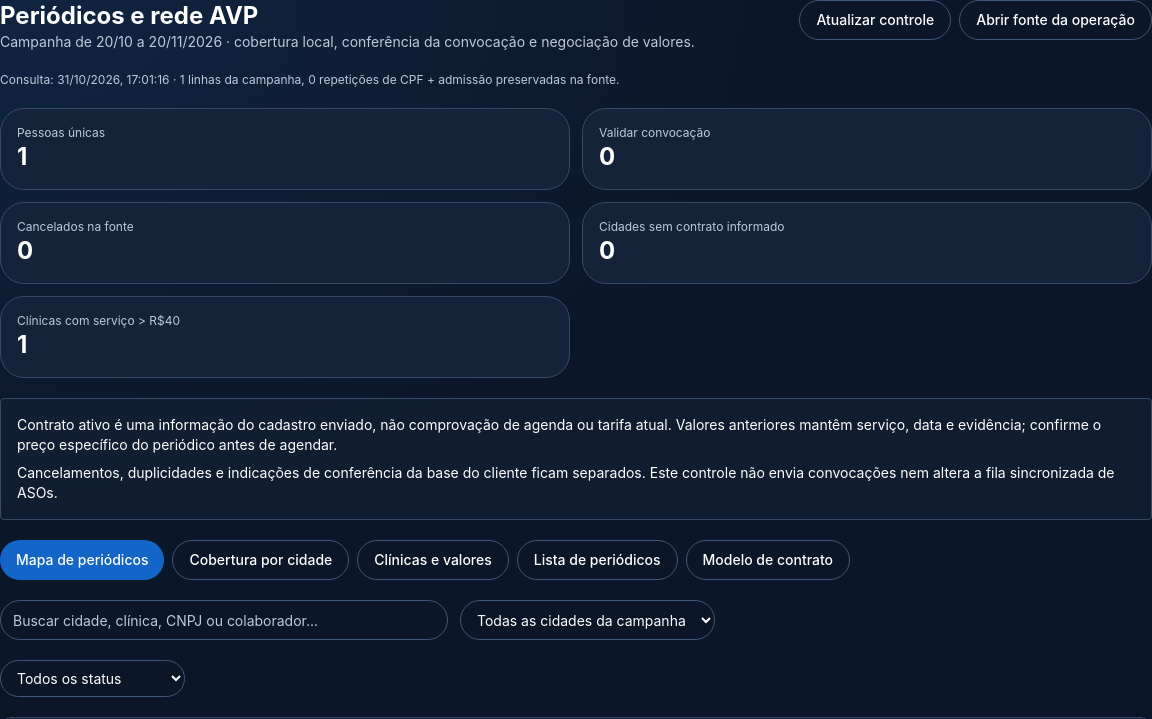
Test: painel de periódicos AVP › limpa os dados quando a autorização é revogada
Click the button "Lista de periódicos".
click(597, 560)  # box [517,540,678,580]
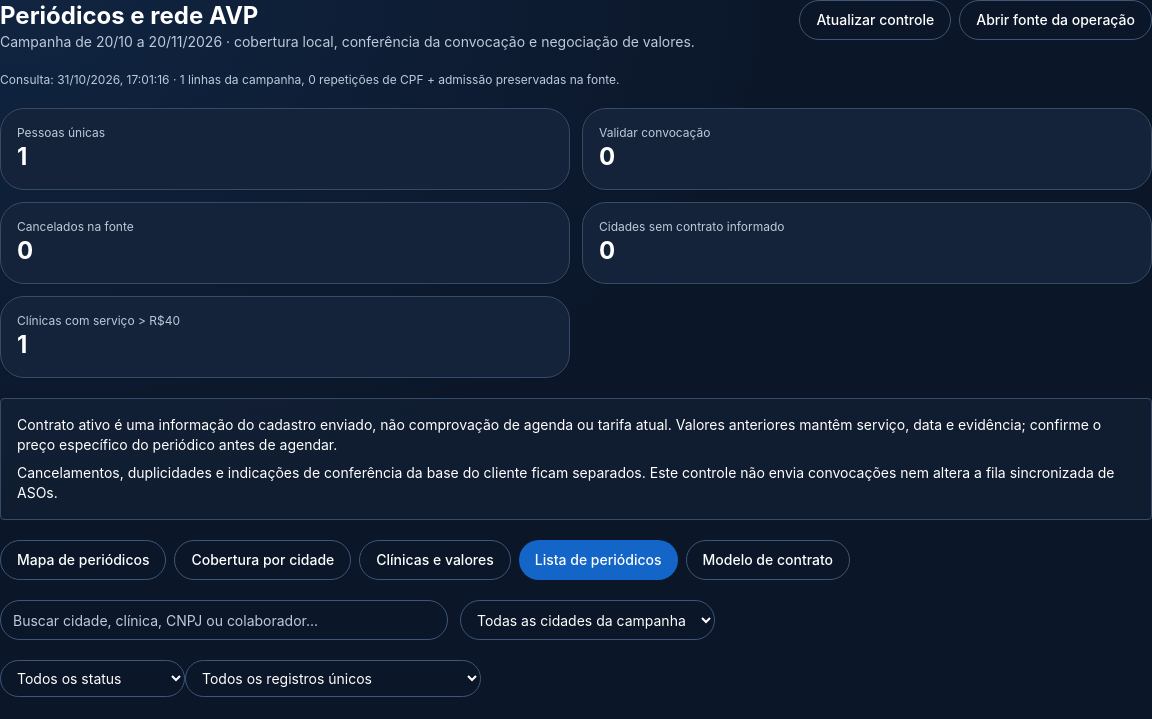
Click the button "Atualizar controle".
click(875, 20)  # box [799,0,951,40]
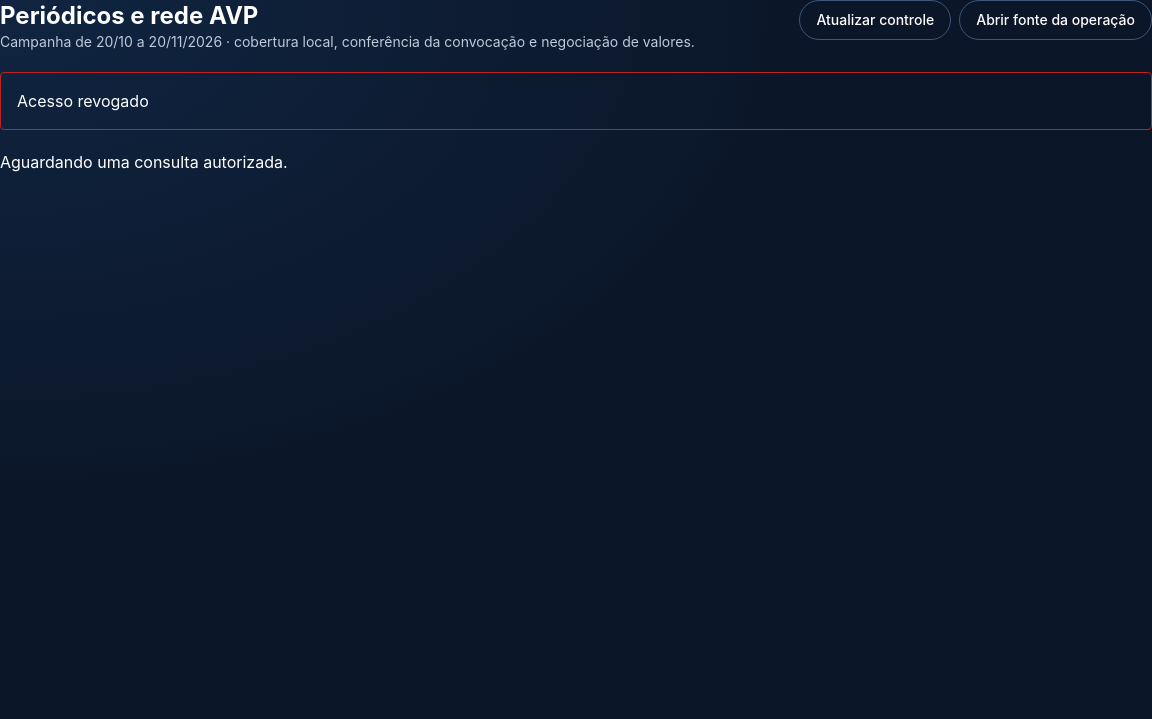
Expected: the text "Acesso revogado" is shown, [17,91,149,111]
